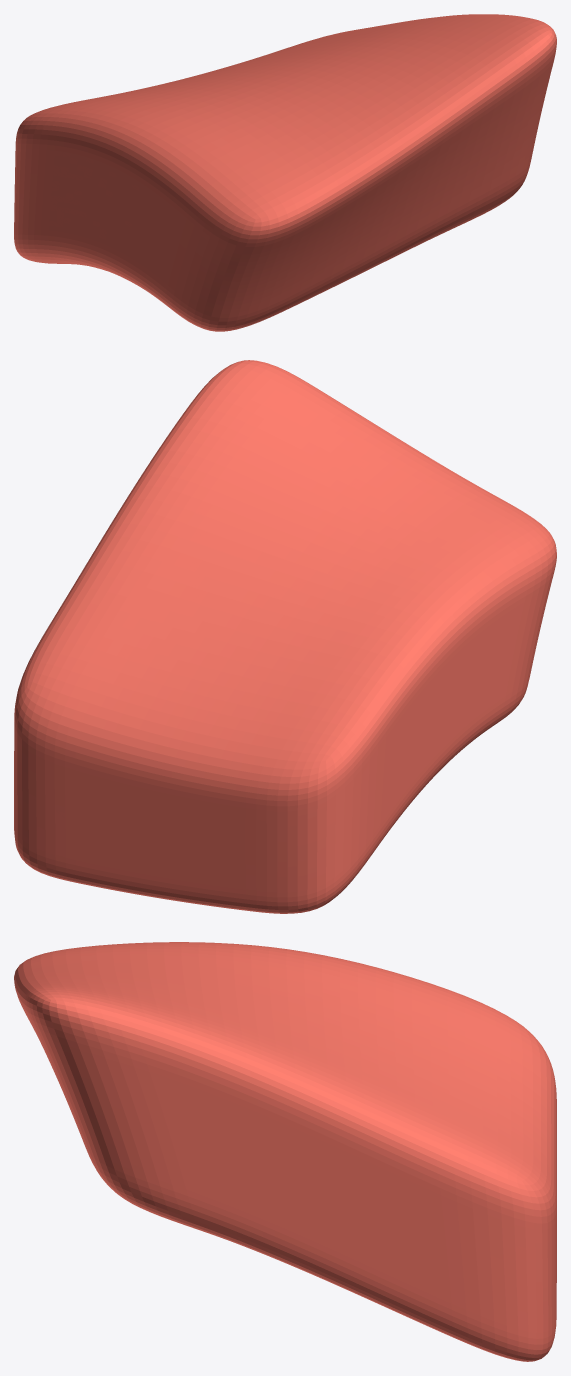
3 views of the same model, one above another, from view 1: azimuth 30°, elevation 25°; view 2: azimuth 150°, elevation 25°; view 3: azimuth 270°, elevation 25° (orthographic). The views are drawn at different scales.
Visible parts, largest first — view 1: waves_1.043; view 2: waves_1.043; view 3: waves_1.043.
Part boxes in pixels (x1,y1,x2,y2): waves_1.043: (14,14,556,331); waves_1.043: (14,360,556,913); waves_1.043: (14,942,556,1361).
Size of the model in its own units: 30.1 by 28.95 by 38.38.
